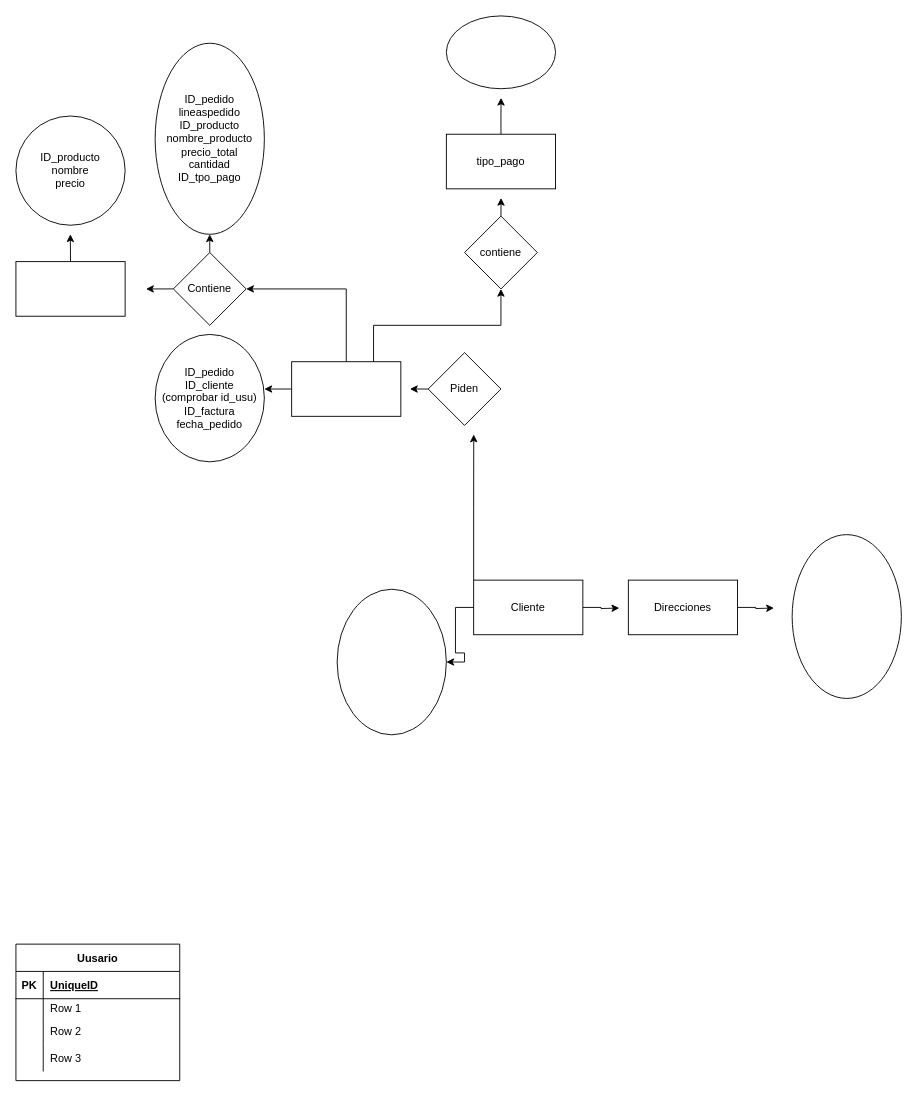
Some shapes in this 917 by 1097 pixel diagram are drawn without their labels. The centre of each missing label's shape, as x and y in pixels:
"efectivo tarjeta" belongs at (500,52).
"ID_direcciones Numero Calle Piso Postal Pais" belongs at (846,616).
"ID_usuario ID_pedido nombre apellidos correo tlfn num_tarjeta" belongs at (391,661).
"Pedido" belongs at (346,388).
"Productos" belongs at (70,288).
